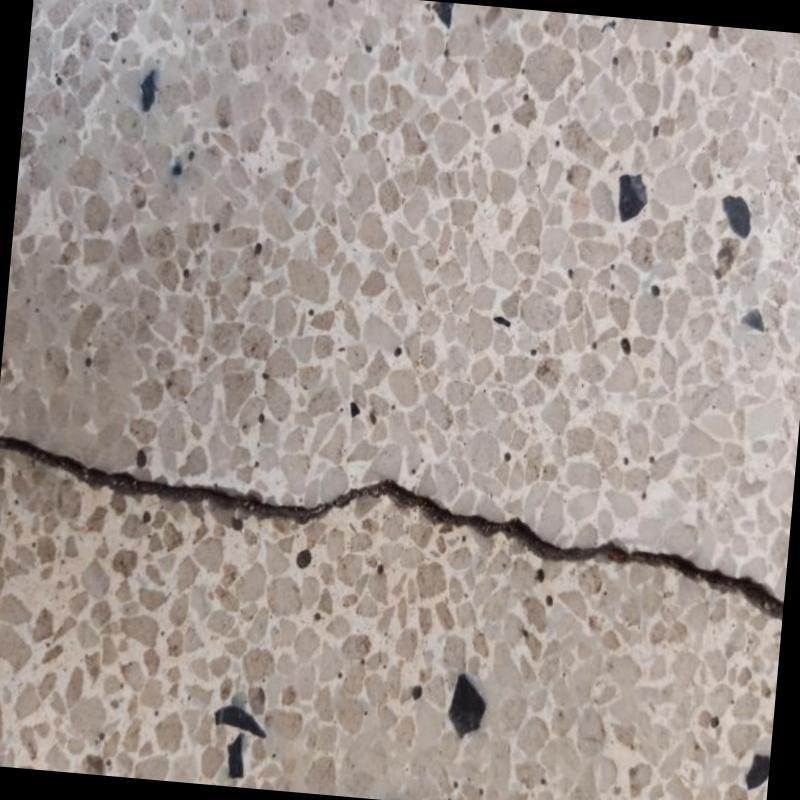pothole: (0, 436, 784, 620)
